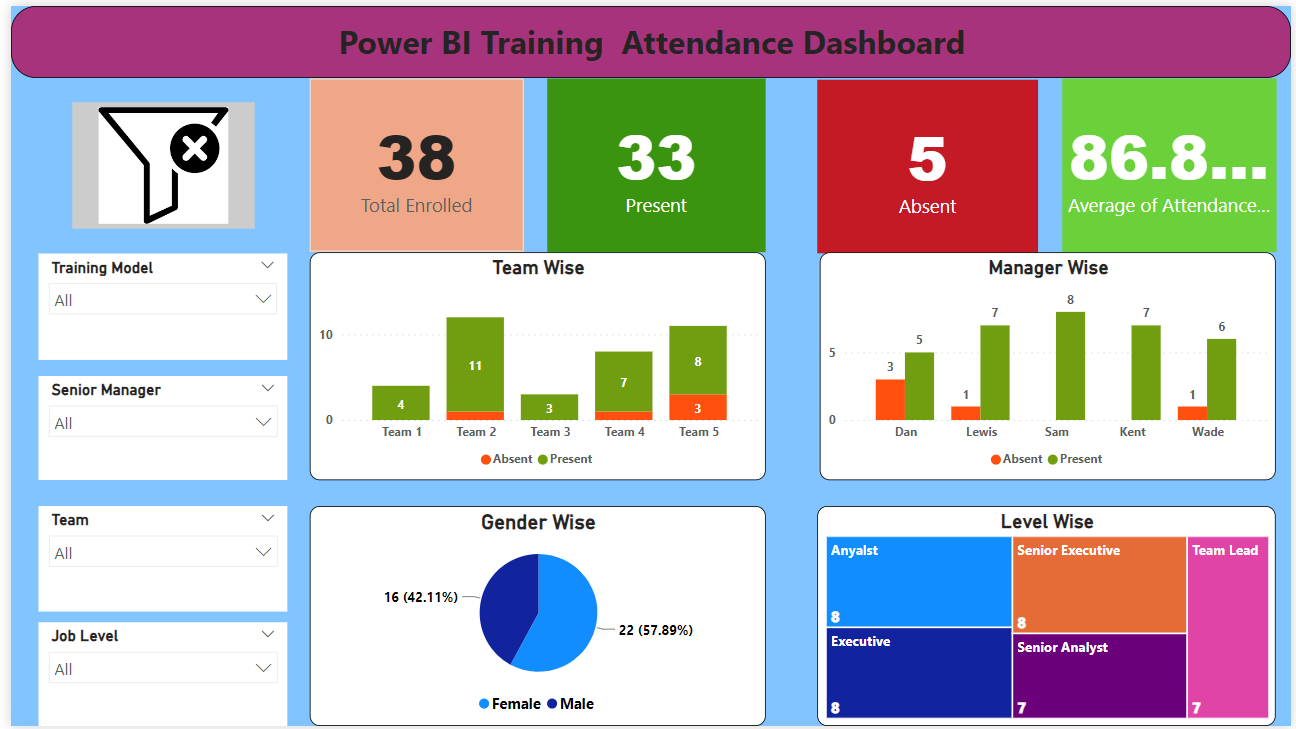

This screenshot's page, from the dashboard's own definition file:
{"tool":"powerbi","page":{"name":"Page 1","canvas":[1280,720],"ordinal":0},"visuals":[{"type":"card","fields":{"Values":["Data.Please enter your Employee ID:"]},"box":[298.9,72.3,214.1,173.8],"z":0},{"type":"card","fields":{"Values":["Data.Please enter your Employee ID:"]},"box":[536.6,72.3,218.2,173.8],"z":1000},{"type":"card","fields":{"Values":["Data.Please enter your Employee ID:"]},"box":[806.3,73.7,221,173.8],"z":2000},{"type":"card","fields":{"Values":["Data.Attendance Status"]},"box":[1050.9,72.3,214.1,173.8],"z":3000},{"type":"columnChart","title":"Team Wise","fields":{"Category":["Data.Team"],"Y":["Data.Name"],"Series":["Data.Attendance"]},"box":[298.9,246,456,228],"z":4000},{"type":"clusteredColumnChart","title":"Manager Wise","fields":{"Category":["Data.Senior Manager"],"Y":["Data.Name"],"Series":["Data.Attendance"]},"box":[809,246,456,228],"z":5000},{"type":"pieChart","title":"Gender Wise","fields":{"Category":["Data.Gender"],"Y":["Data.Name"]},"box":[298.9,500.4,456,219.6],"z":6000},{"type":"treemap","title":"Level Wise","fields":{"Group":["Data.Job Level"],"Values":["Data.Name"]},"box":[806.3,500.4,458.7,219.6],"z":7000},{"type":"slicer","fields":{"Values":["Data (2).Training Model"]},"box":[27.7,247.2,248.4,106.1],"z":8000},{"type":"slicer","fields":{"Values":["Data (2).Senior Manager"]},"box":[27.8,369.8,248.8,104.3],"z":9000},{"type":"slicer","fields":{"Values":["Data (2).Team"]},"box":[27.8,500.4,248.8,105.6],"z":10000},{"type":"slicer","fields":{"Values":["Data (2).Job Level"]},"box":[27.8,615.8,248.8,104.3],"z":11000},{"type":"image","box":[61.5,96.5,182.1,126.6],"z":12000},{"type":"textbox","box":[0,0,1280.3,72.3],"z":13000}]}

Visuals, with their boxes in screenshot pixels (x1, y1, x2, y2), scaled from the page's 1280x720 canvas onto the 1296x729 screenshot:
card - Data.Please enter your Employee ID:: <bbox>303, 73, 519, 249</bbox>
card - Data.Please enter your Employee ID:: <bbox>543, 73, 764, 249</bbox>
card - Data.Please enter your Employee ID:: <bbox>816, 75, 1040, 251</bbox>
card - Data.Attendance Status: <bbox>1064, 73, 1281, 249</bbox>
"Team Wise" columnChart: <bbox>303, 249, 764, 480</bbox>
"Manager Wise" clusteredColumnChart: <bbox>819, 249, 1281, 480</bbox>
"Gender Wise" pieChart: <bbox>303, 507, 764, 728</bbox>
"Level Wise" treemap: <bbox>816, 507, 1281, 728</bbox>
slicer - Data (2).Training Model: <bbox>28, 250, 280, 358</bbox>
slicer - Data (2).Senior Manager: <bbox>28, 374, 280, 480</bbox>
slicer - Data (2).Team: <bbox>28, 507, 280, 614</bbox>
slicer - Data (2).Job Level: <bbox>28, 623, 280, 728</bbox>
image: <bbox>62, 98, 247, 226</bbox>
textbox: <bbox>0, 0, 1295, 73</bbox>
